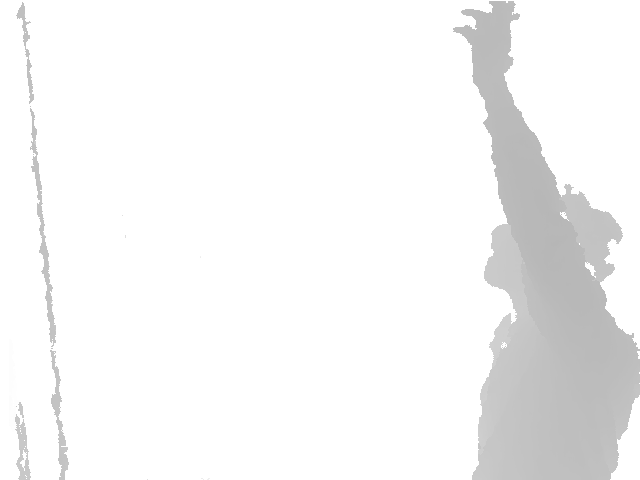hand: (454, 1, 521, 80)
head: (483, 184, 624, 309)
person: (454, 1, 640, 480)
